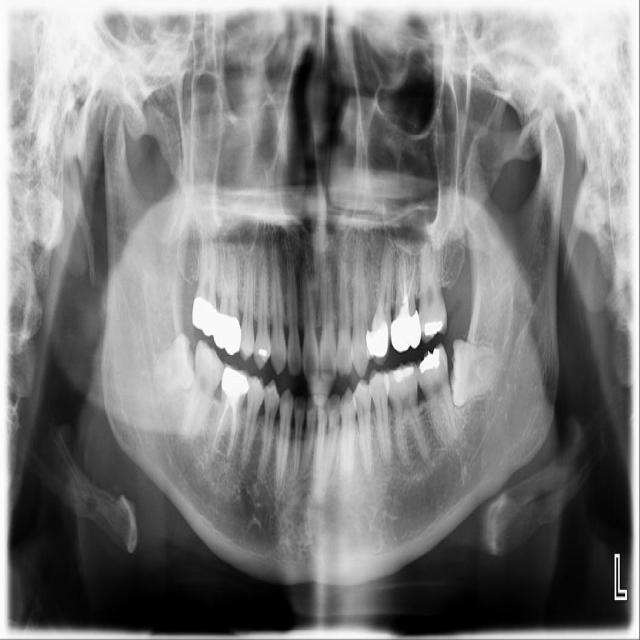52: (405, 341, 460, 394), (379, 358, 428, 410), (209, 359, 257, 409), (413, 296, 452, 344), (385, 310, 426, 354), (362, 314, 394, 367), (211, 311, 244, 357), (190, 296, 220, 338), (251, 333, 273, 371)
73: (208, 391, 245, 461), (393, 248, 420, 319), (579, 557, 601, 578)
BioHorizons Implant: (411, 217, 449, 345)
Biomet 3i Implant: (447, 338, 502, 410)
Blue Sky Bio Implant: (410, 341, 459, 450)
Caries: (191, 223, 220, 337)
Implant: (184, 338, 228, 438)
Keystone Dental Implant: (144, 330, 215, 402)
